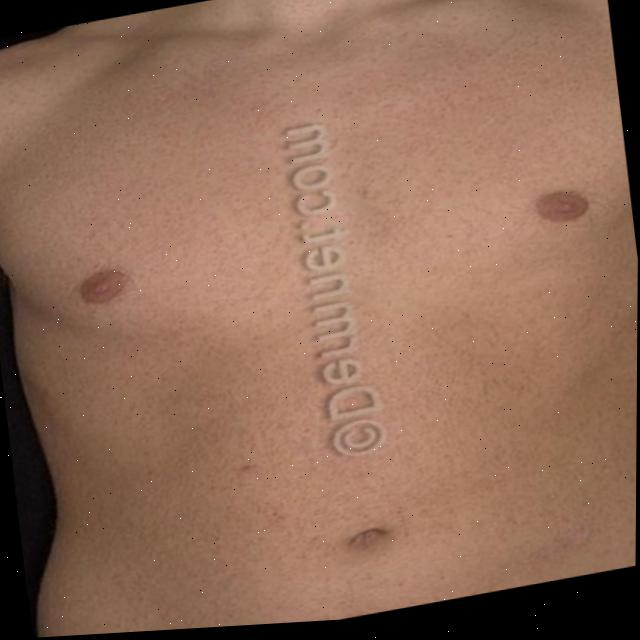Eczema: (176, 9, 448, 182)
